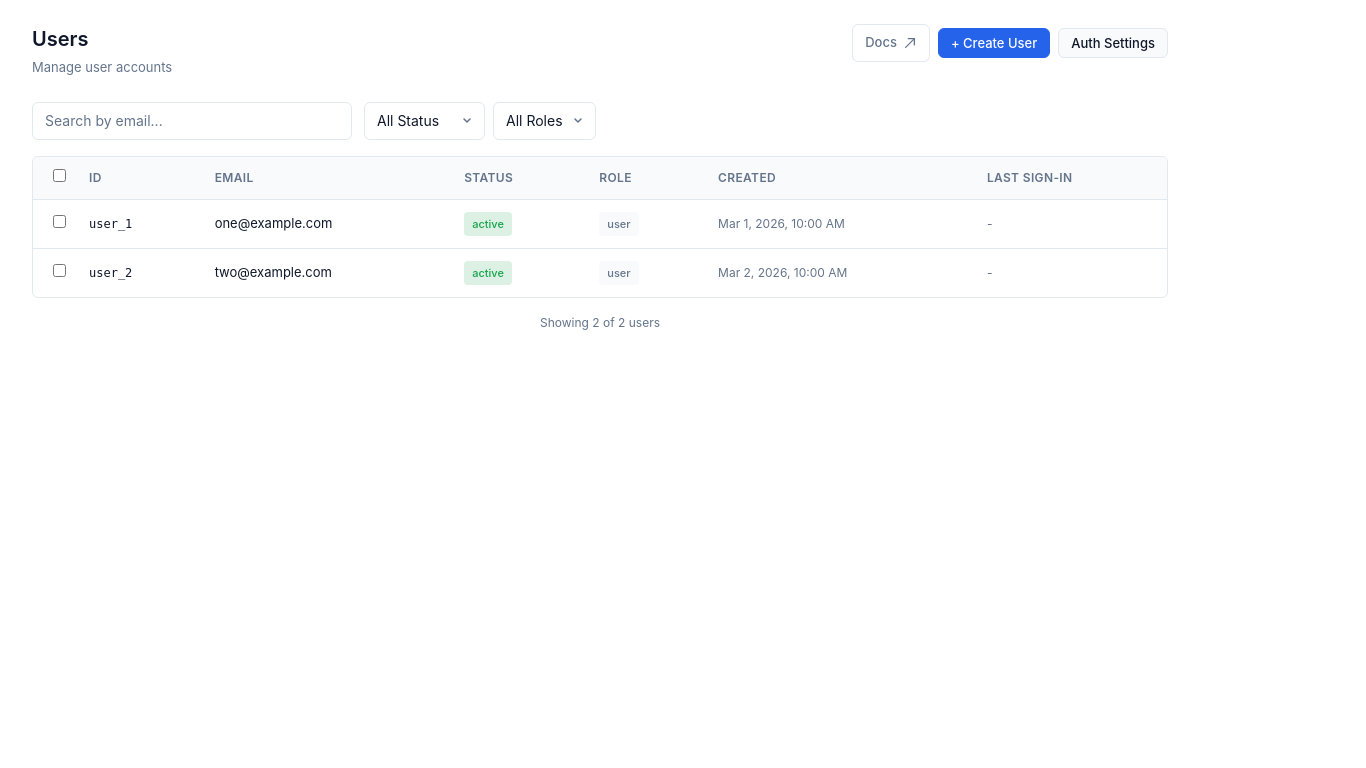
auth page › reports partial failures during bulk delete and refreshes the table afterwards
Expected: the text "one@example.com" is shown, [199,199,448,248]
Click the checkbox named "Select all users" at [59, 175], box [52,168,66,182]
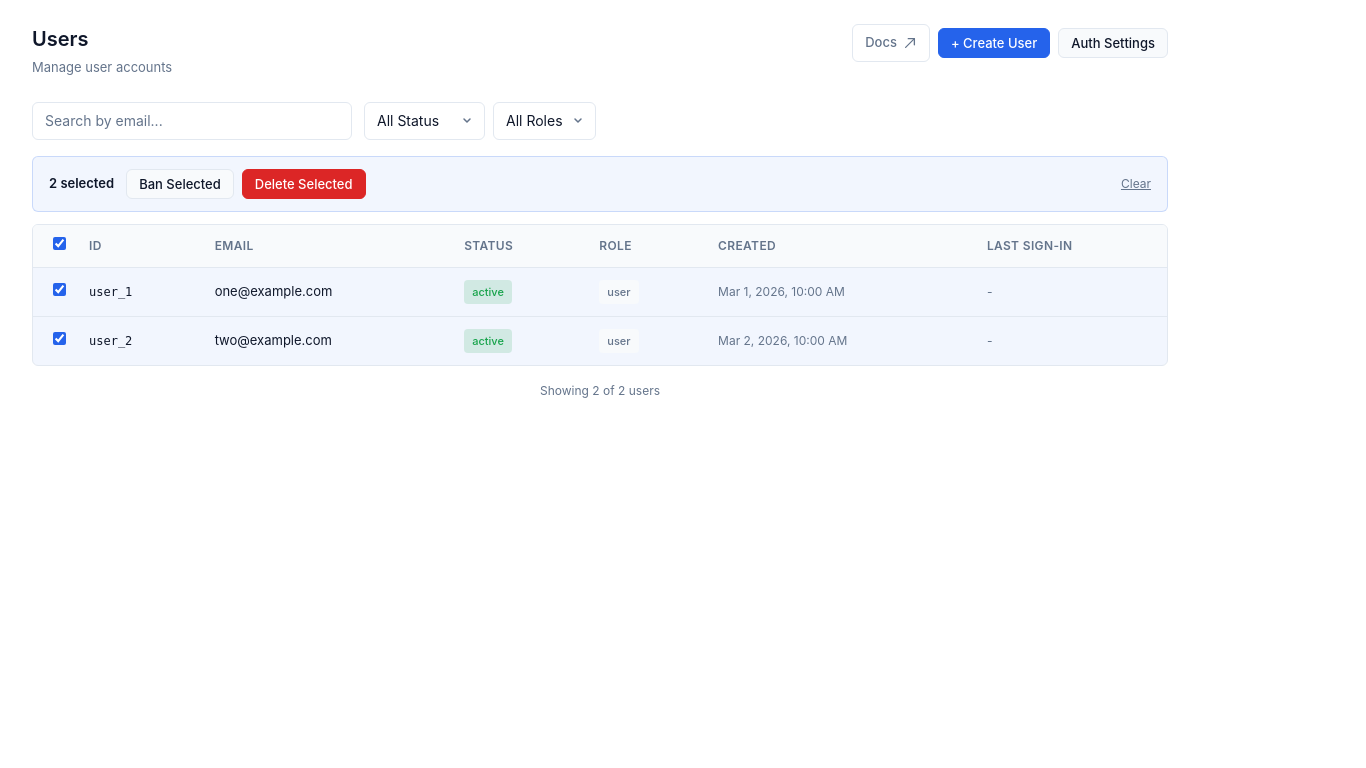
Click the button "Delete Selected" at [304, 184], box [242,168,366,198]
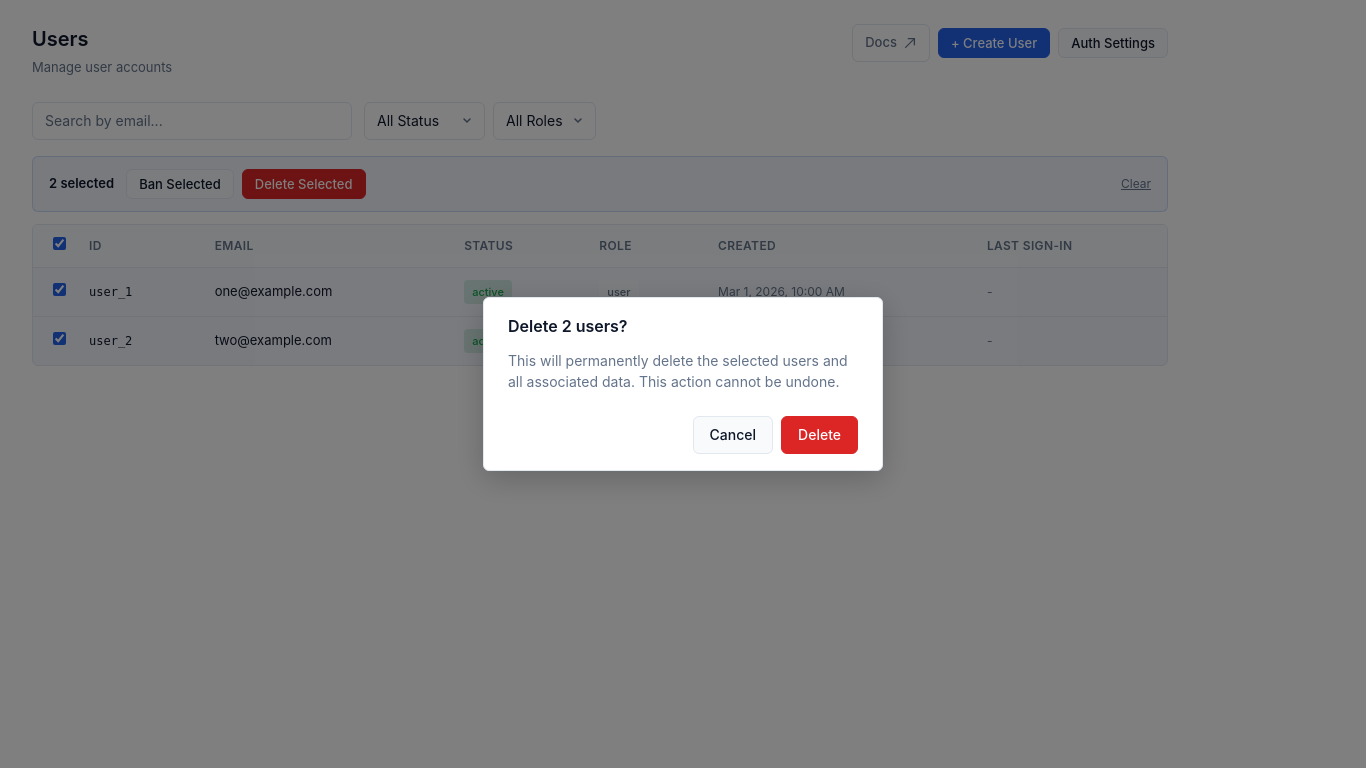
Click the button "Delete" at [820, 435], box [781,416,858,454]
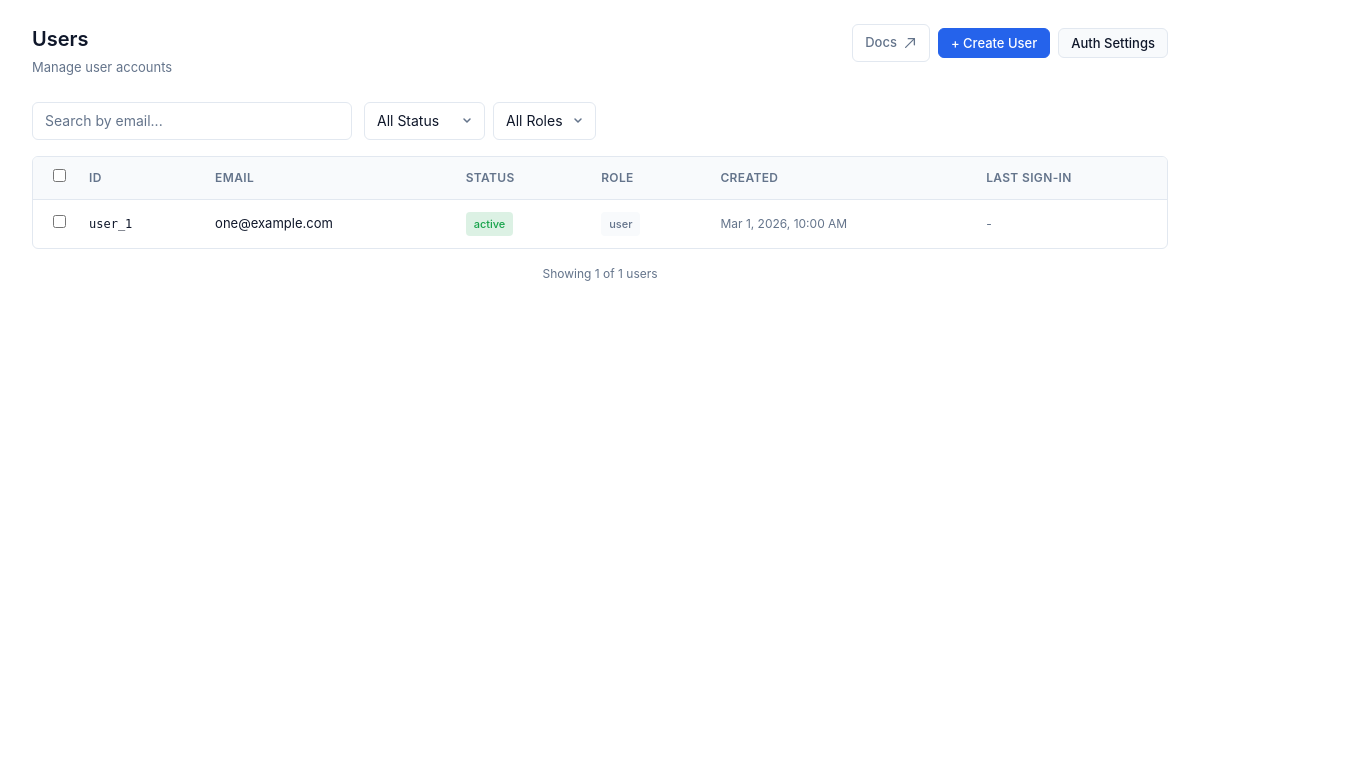
Now the button "two@example.com" is gone
